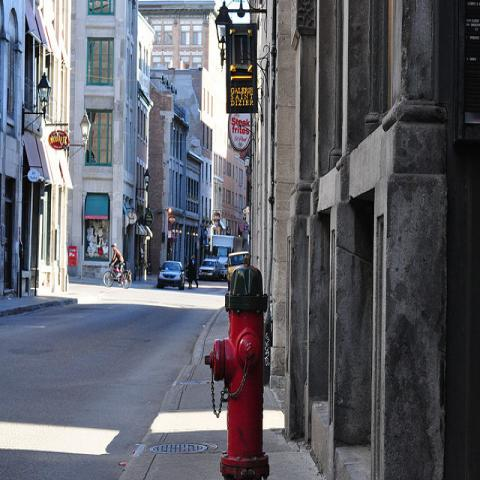car: (223, 249, 251, 290), (157, 262, 184, 290), (198, 258, 221, 280)
truck: (211, 234, 243, 280), (228, 250, 250, 292)
